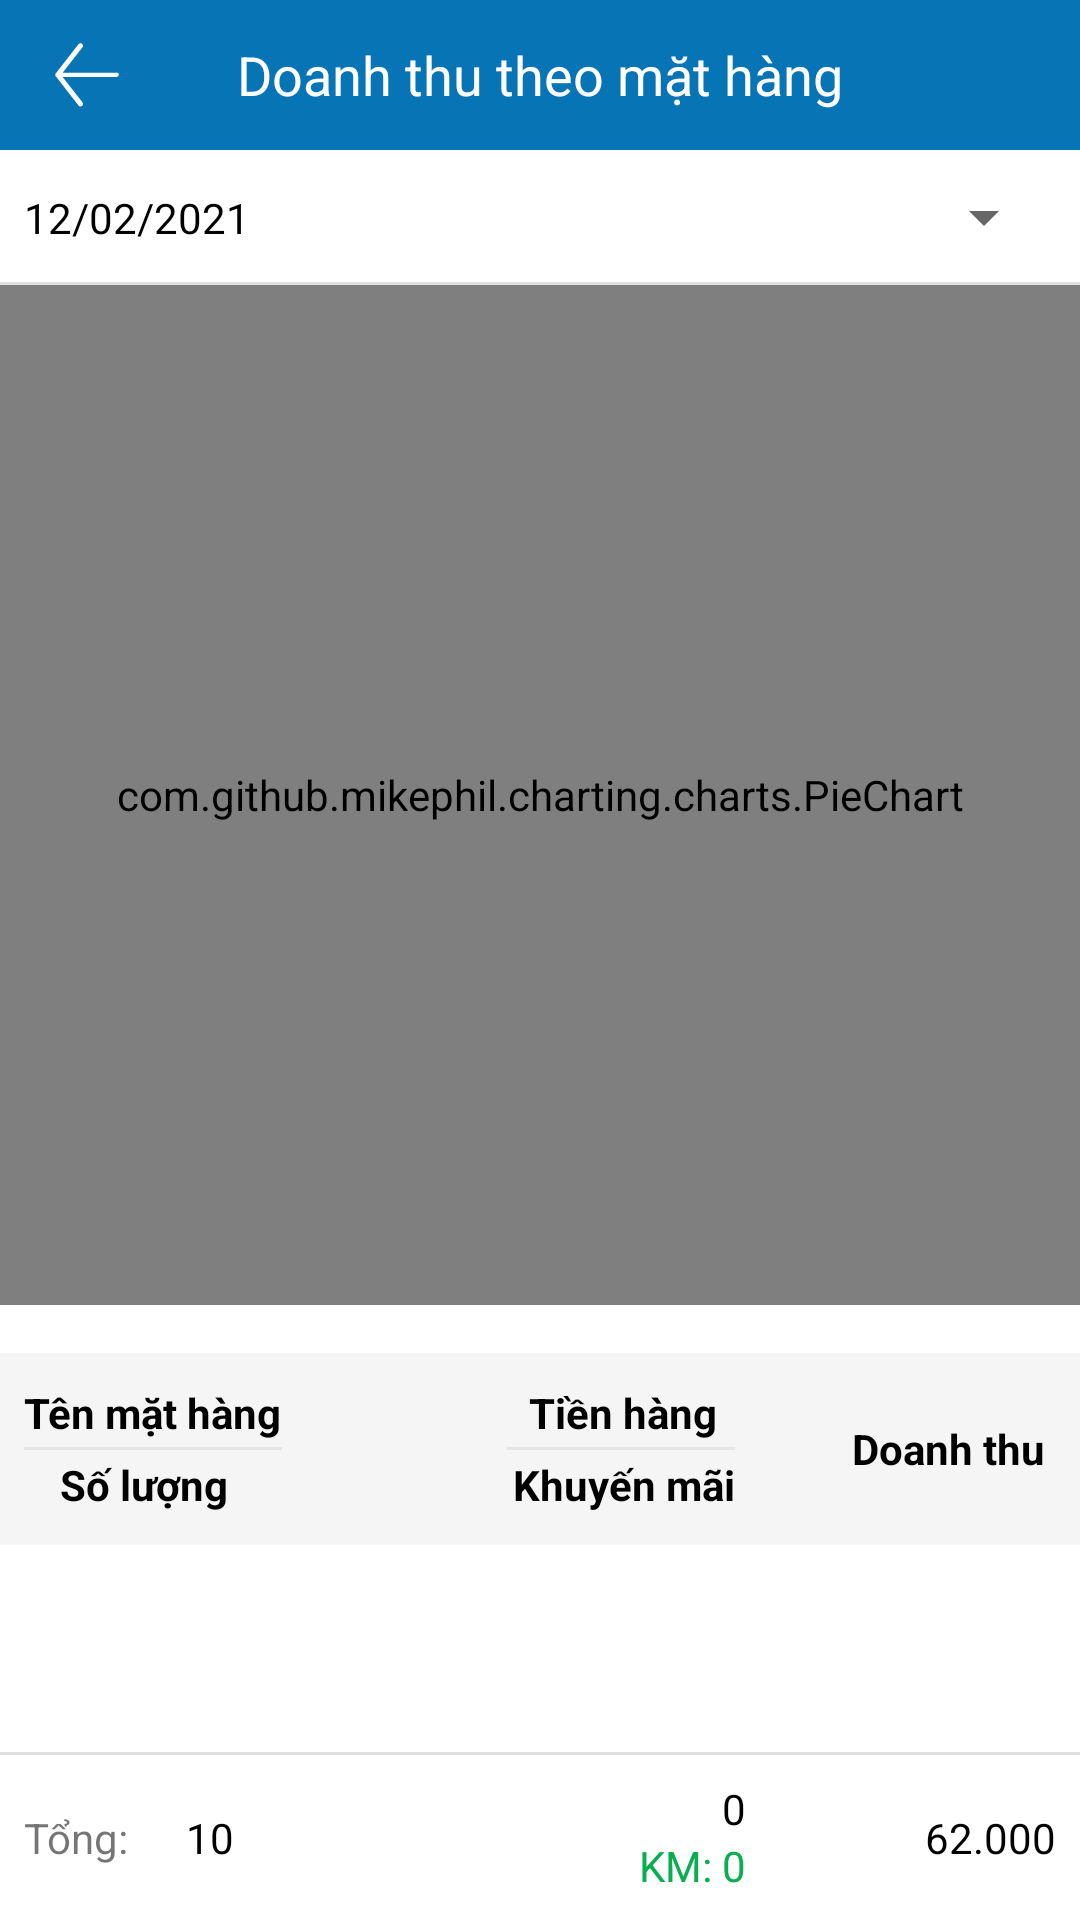

Icon click points for this 1080 x 1920 phone screenshot, format point (x, y):
back: point (87, 75)
